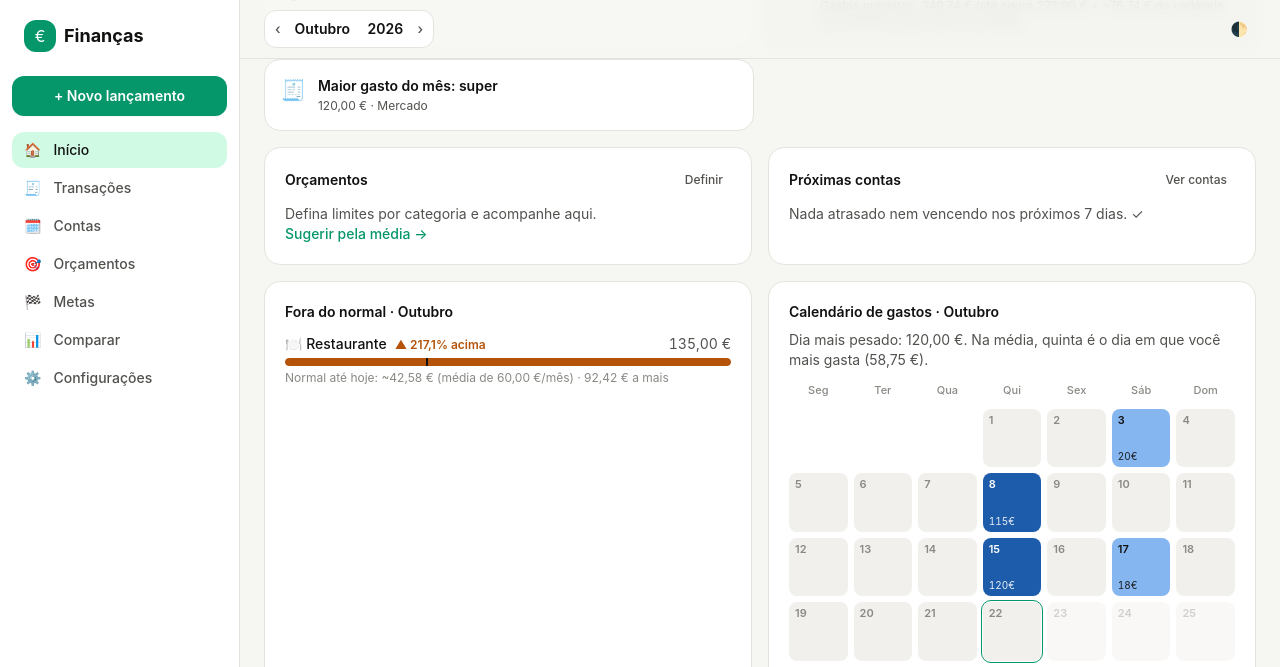
Test: App: URL, loading and errors › "Fora do normal" opens Transações filtered on that category
The width and height of the screenshot is (1280, 667).
(page scrolled)
Click the button "Restaurante" at point(508, 360), box [285, 334, 731, 386]
(page scrolled)
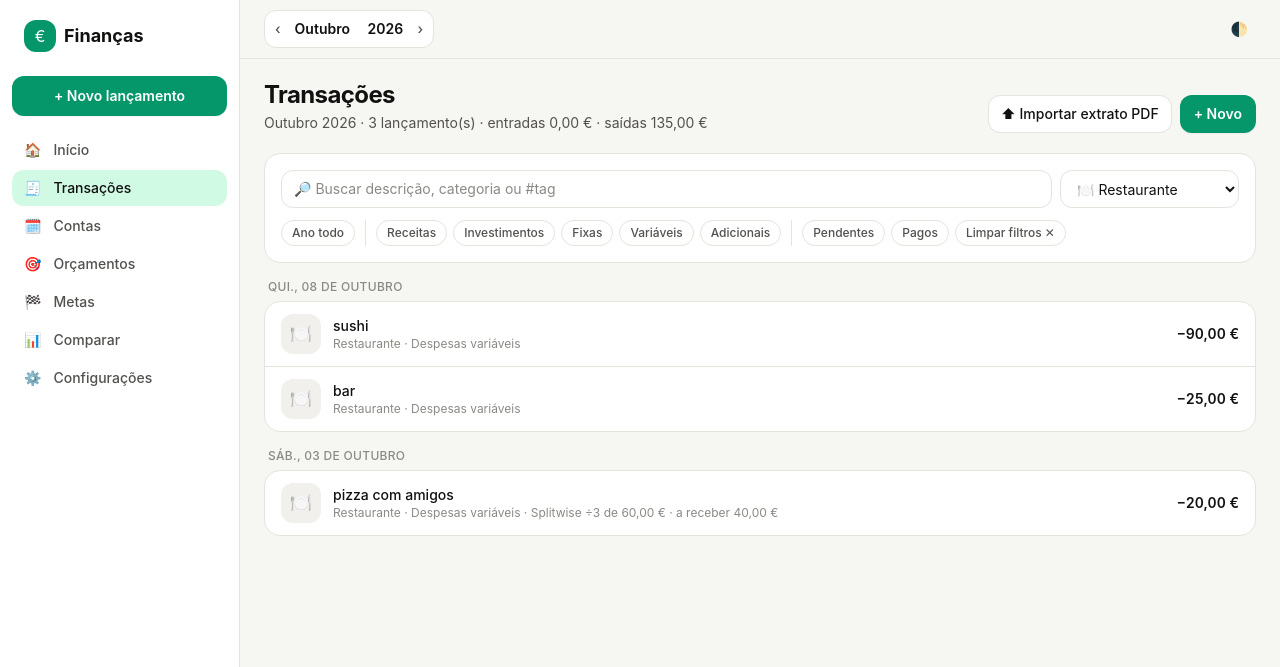
Now the heading "Transações" is shown, box [264, 80, 395, 109]
Now the dropdown named "Categoria" shows "🍽️ Restaurante", box [1060, 170, 1239, 208]
